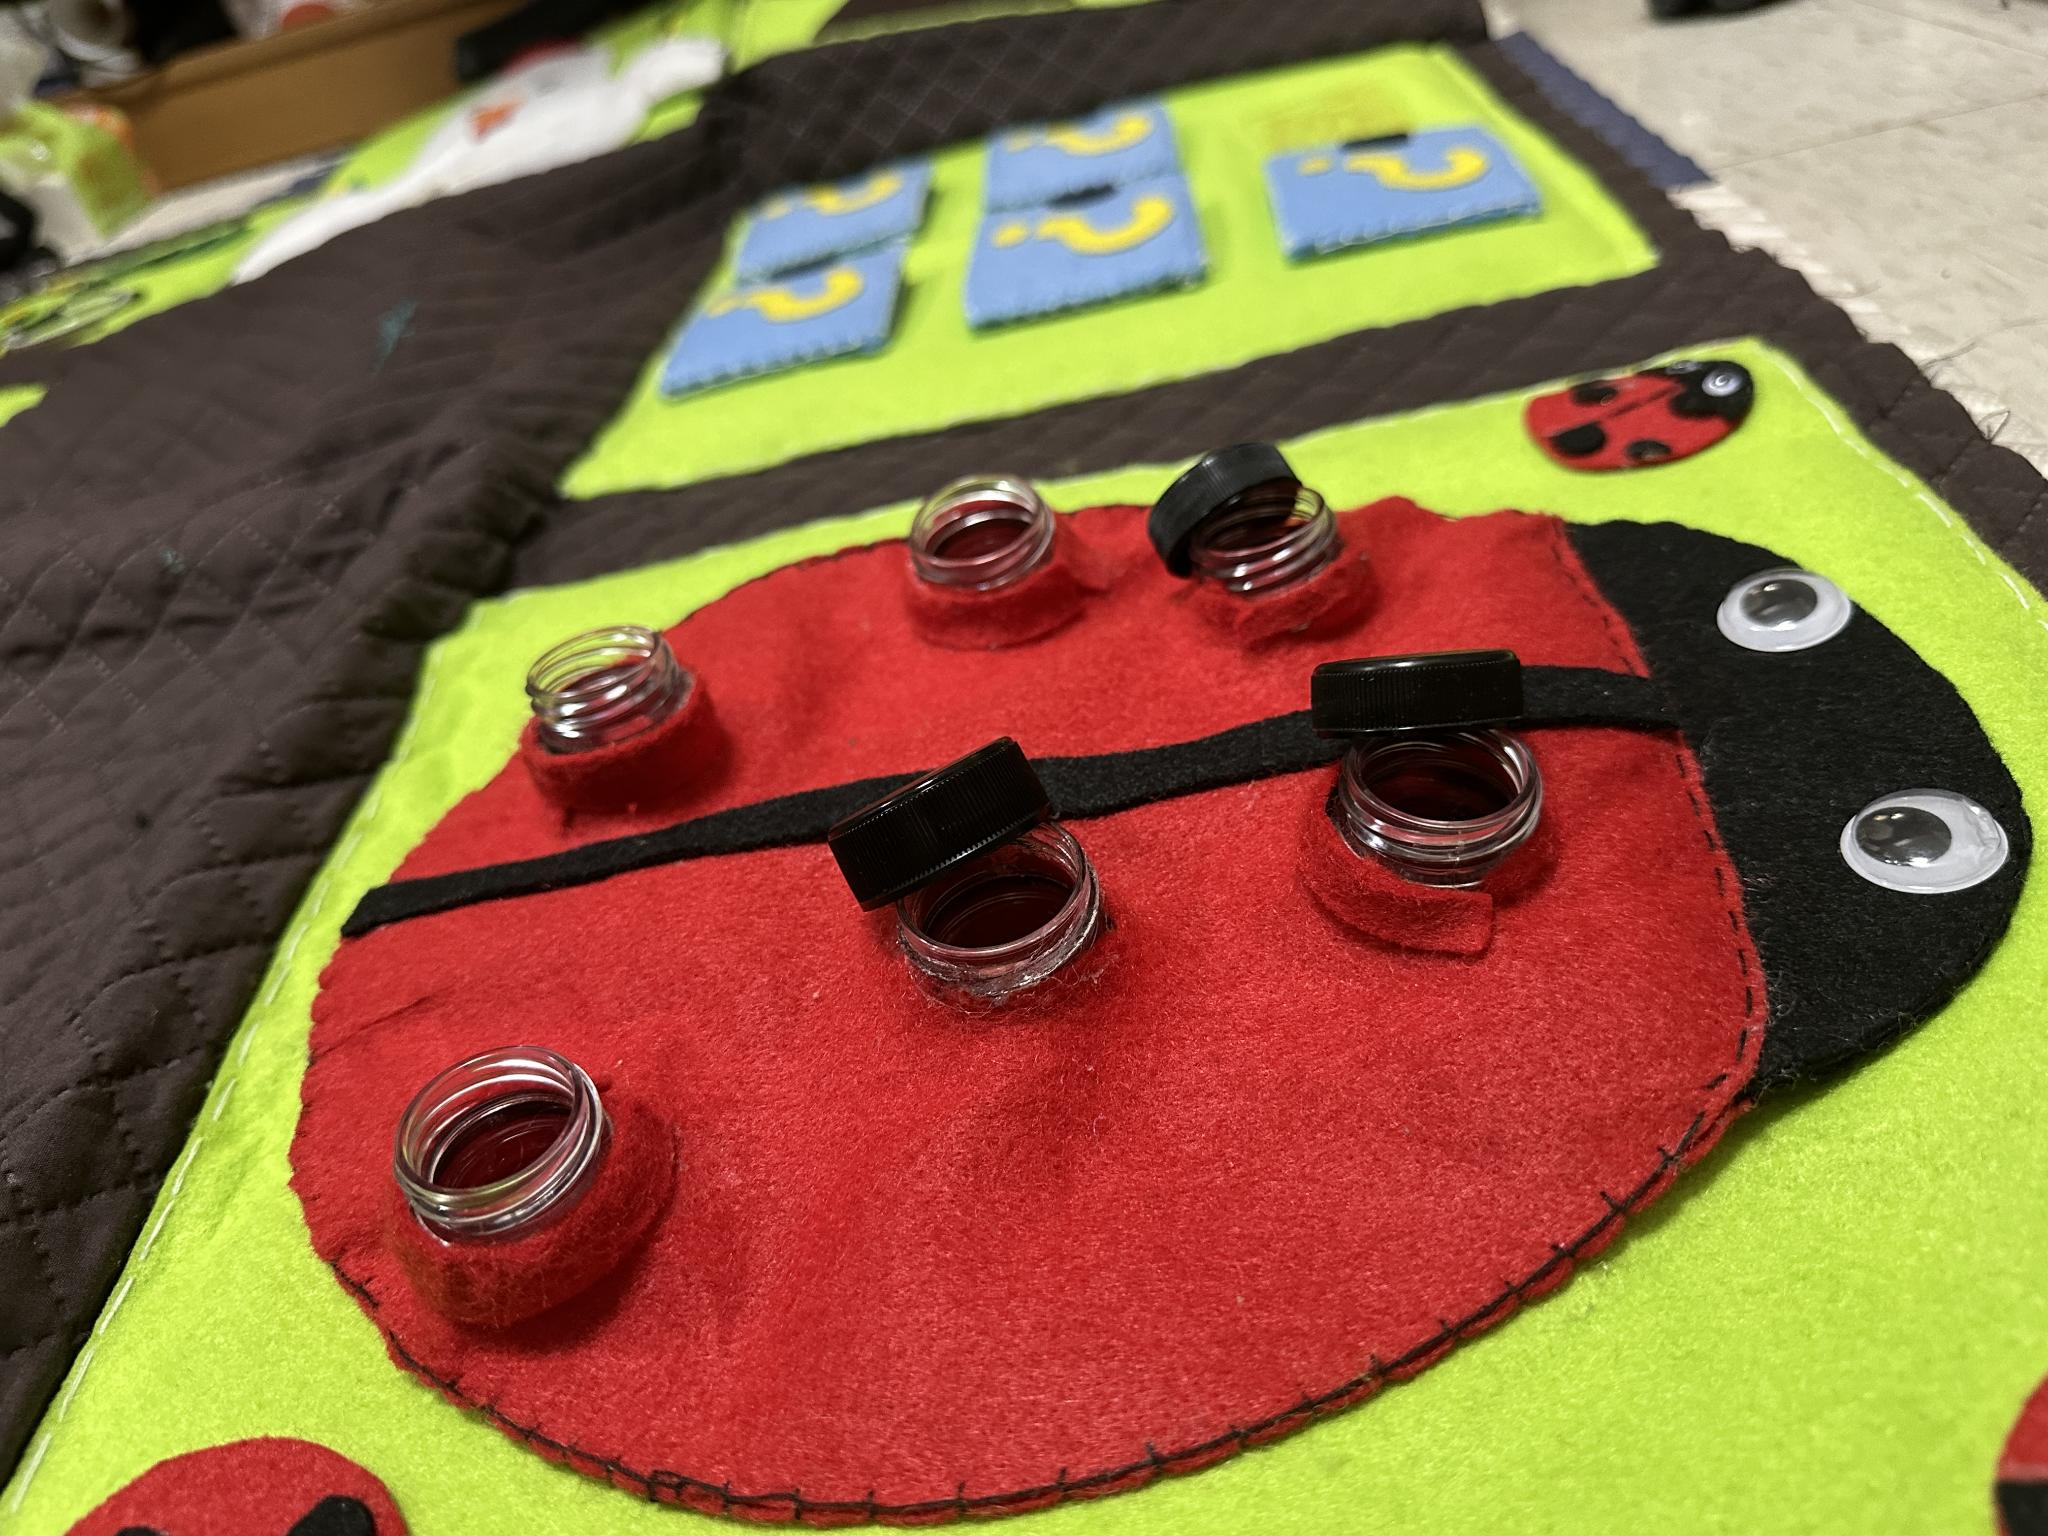cap_ng: (814, 736, 1168, 1041), (1272, 631, 1572, 986), (1122, 431, 1393, 649)
